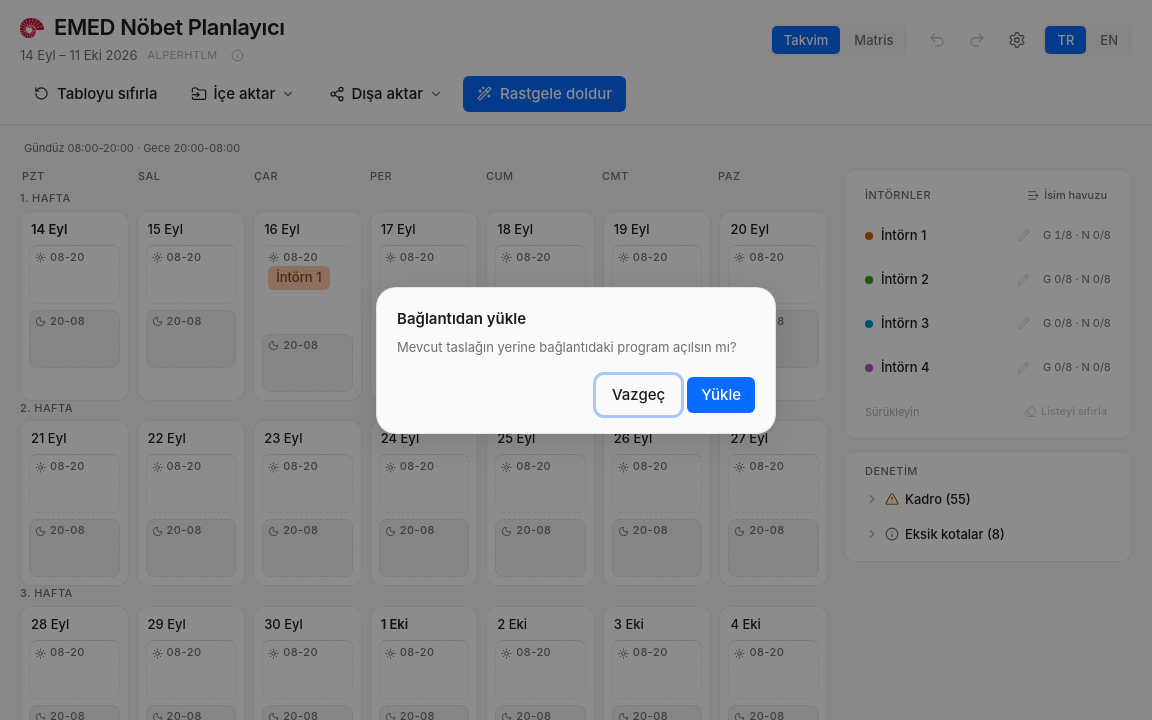
Test: boot from a share link › asks before replacing a draft that has content
Expected: the text "Mevcut taslağın yerine bağlantıdaki program açılsın mı?" is shown, left=397, top=338, right=755, bottom=356
Click the button "Yükle": [721, 394] box left=687, top=376, right=755, bottom=412
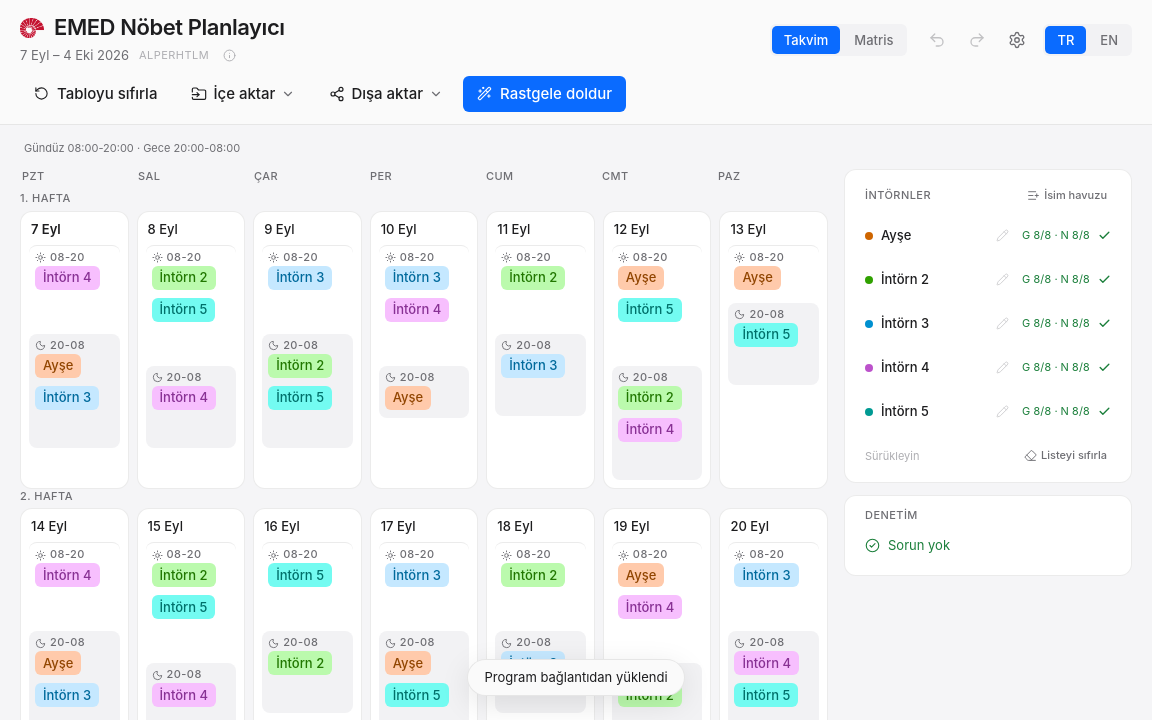
Expected: the text "Program bağlantıdan yüklendi" is shown, left=467, top=659, right=684, bottom=696
